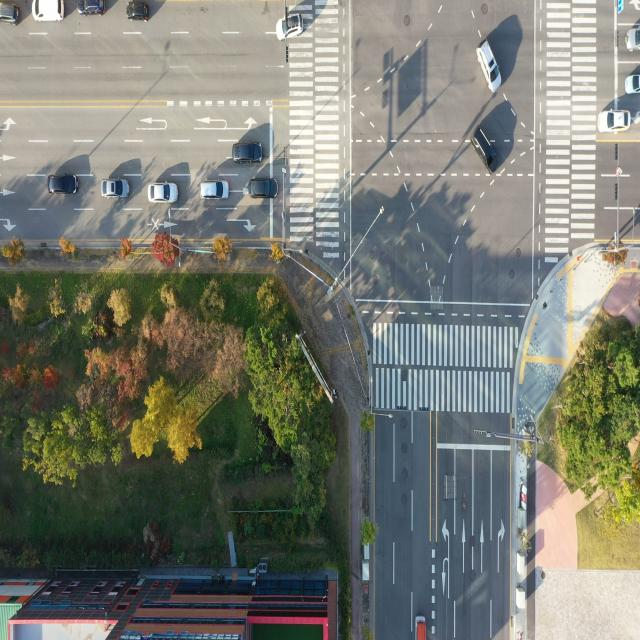car: (477, 40, 501, 94), (473, 123, 495, 174), (596, 107, 632, 134), (31, 0, 68, 24), (277, 13, 304, 40), (233, 142, 263, 166), (49, 174, 78, 197), (248, 177, 278, 199), (0, 0, 23, 27), (150, 183, 178, 204), (102, 178, 130, 198), (201, 179, 229, 199), (125, 0, 149, 23), (79, 0, 106, 17), (626, 25, 640, 53), (624, 74, 640, 98), (414, 614, 427, 640)
